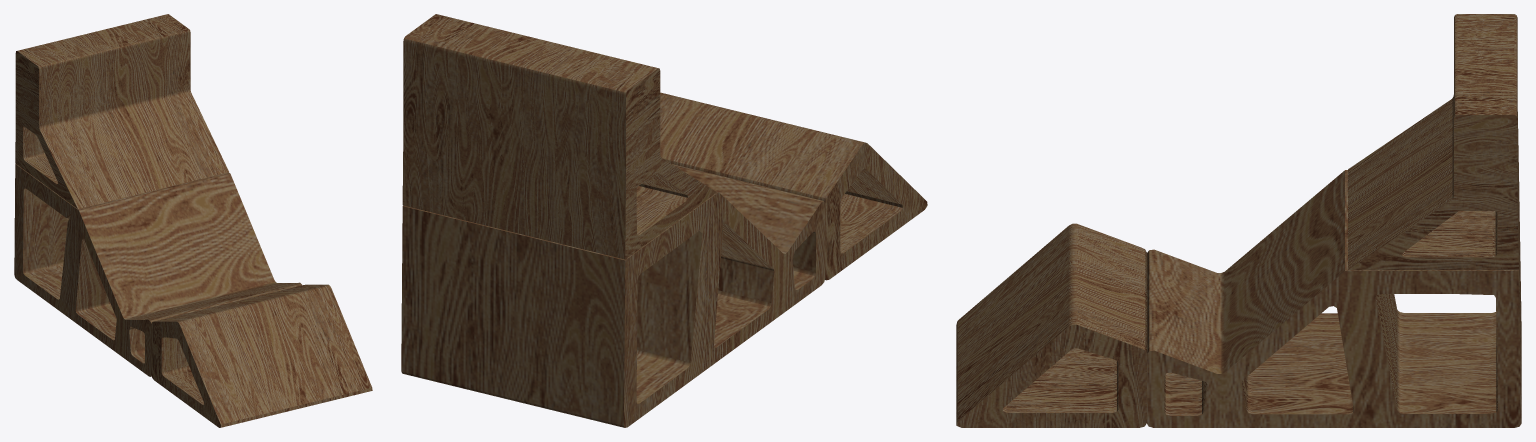
File: Organic Chair.fbx
3 renders of one model, left to right at view 1: azimuth 30°, elevation 25°; view 2: azimuth 150°, elevation 25°; view 3: azimuth 270°, elevation 25°, orthographic. The views are drawn at different scales.
Parts seen in each view (by area): view 1: Chair_Part_2, Chair_Part_1, Chair_Part_3; view 2: Chair_Part_2, Chair_Part_1, Chair_Part_3; view 3: Chair_Part_2, Chair_Part_3, Chair_Part_1.
Part boxes in pixels (left/top/right/bottom): Chair_Part_2: left=14, top=164, right=301, bottom=376; Chair_Part_1: left=15, top=14, right=228, bottom=208; Chair_Part_3: left=151, top=284, right=372, bottom=427; Chair_Part_2: left=401, top=164, right=825, bottom=427; Chair_Part_1: left=402, top=14, right=716, bottom=259; Chair_Part_3: left=660, top=92, right=927, bottom=280; Chair_Part_2: left=1147, top=170, right=1521, bottom=427; Chair_Part_3: left=956, top=223, right=1146, bottom=427; Chair_Part_1: left=1348, top=14, right=1518, bottom=270.
Bounding box in the file's own units: 65.37 × 94.41 × 154.
